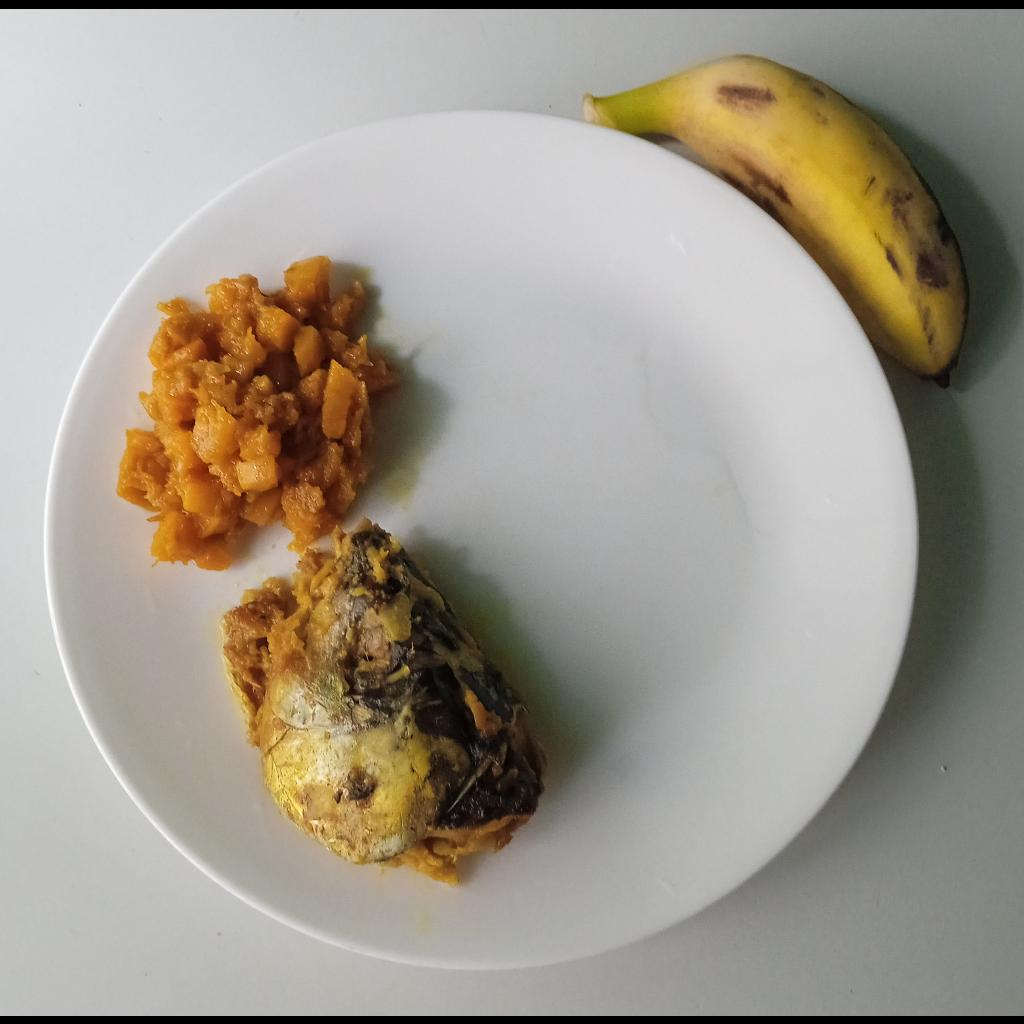banana: (582, 49, 977, 388)
fish: (214, 520, 546, 888)
kumra-vaji: (110, 251, 409, 571)
